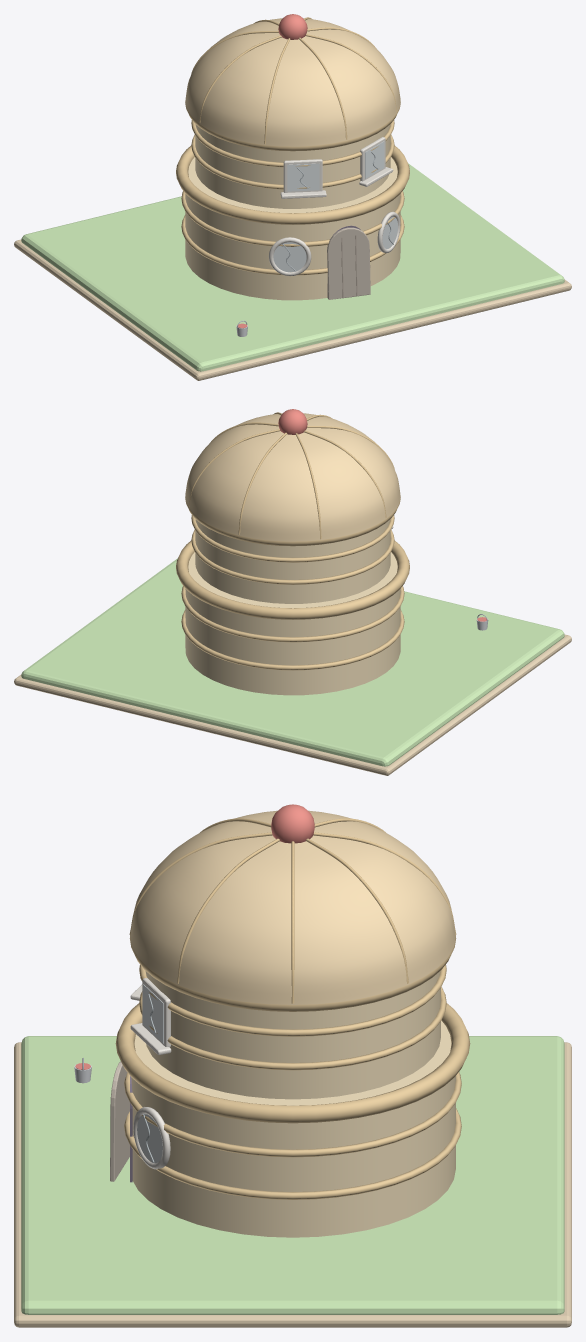
File: building_dumpling_L04.glb
3 renders of one model, top to bottom at view 1: azimuth 30°, elevation 25°; view 2: azimuth 150°, elevation 25°; view 3: azimuth 270°, elevation 25°, orthographic. The views are drawn at different scales.
Parts seen in each view (by area): view 1: dumpling_L4; view 2: dumpling_L4; view 3: dumpling_L4.
Boxes of the visible parts, <box> form: dumpling_L4: <box>14,14,571,380</box>; dumpling_L4: <box>14,409,571,775</box>; dumpling_L4: <box>14,804,571,1327</box>.
Size of the model in its own units: 26.61 by 17.17 by 22.6.
